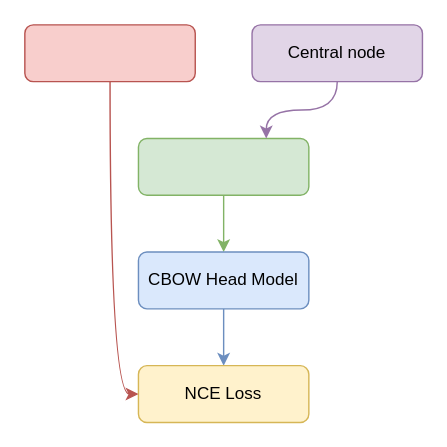
The diagram is 447 pixels wide and 447 high, and some of its shapes have lost their labels. The centre of each missing label's shape, as x and y in pixels:
"Contextual nodes" belongs at point 109,52.
"Node Embedding Layer" belongs at point 223,166.
